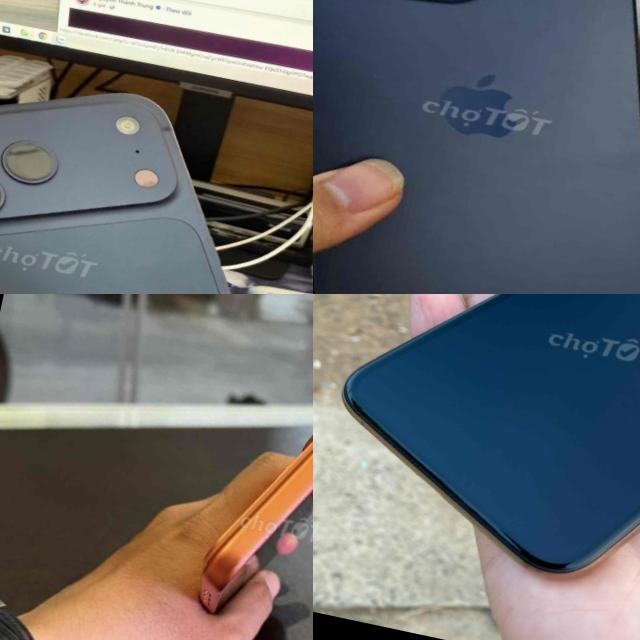gen_15: (313, 0, 640, 294)
gen_17: (0, 46, 313, 294), (179, 379, 313, 640)
gen_x_xs: (344, 294, 640, 571)
